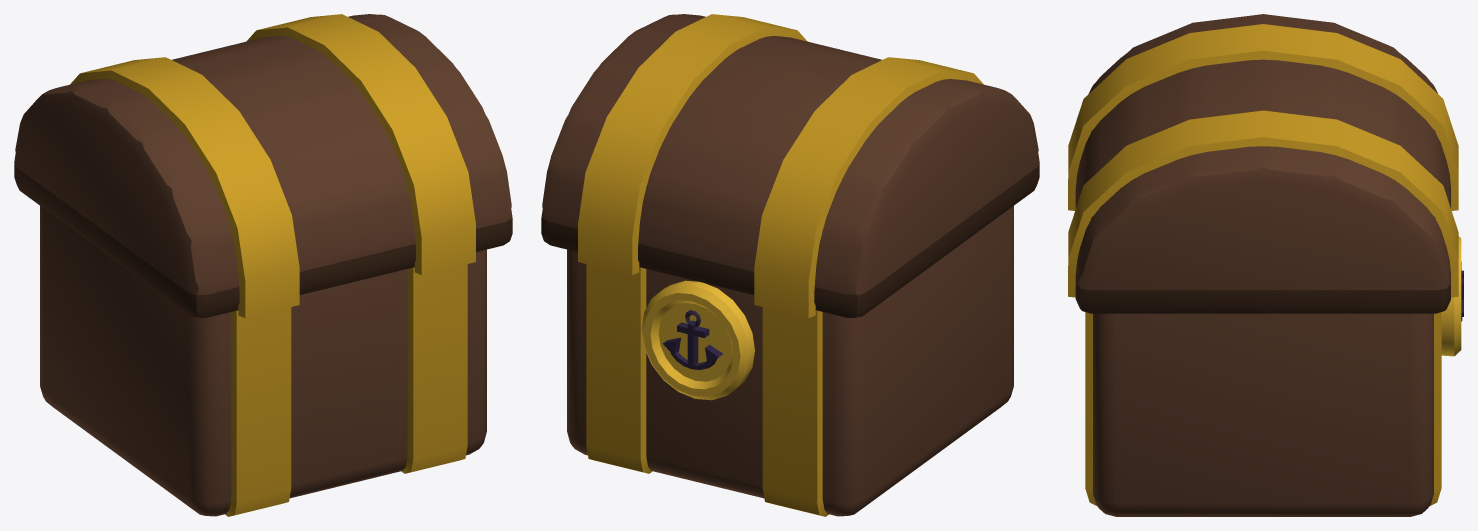
Rendered from boite_skins_pirates.fbx.
The picture shows the model from 3 angles, left to right: view 1: azimuth 30°, elevation 25°; view 2: azimuth 150°, elevation 25°; view 3: azimuth 270°, elevation 25°; orthographic projection.
Visible parts, largest first — view 1: Couvercle, Corps, RubanCouvercle, Ruban; view 2: Couvercle, Corps, RubanCouvercle, Ruban, Medaillon, Embleme; view 3: Couvercle, Corps, RubanCouvercle, Ruban, Medaillon.
Boxes of the visible parts, <box> form: Couvercle: <box>14,14,512,318</box>; Corps: <box>40,206,486,516</box>; RubanCouvercle: <box>70,14,475,318</box>; Ruban: <box>225,264,467,516</box>; Couvercle: <box>541,14,1039,318</box>; Corps: <box>567,206,1013,516</box>; RubanCouvercle: <box>578,14,983,318</box>; Ruban: <box>586,264,828,516</box>; Medaillon: <box>641,280,754,400</box>; Embleme: <box>663,310,722,369</box>; Couvercle: <box>1075,14,1450,313</box>; Corps: <box>1093,313,1433,516</box>; RubanCouvercle: <box>1068,24,1458,297</box>; Ruban: <box>1085,312,1441,505</box>; Medaillon: <box>1441,236,1461,356</box>.
Bounding box in the file's own units: 0.88 × 0.963 × 0.928.
